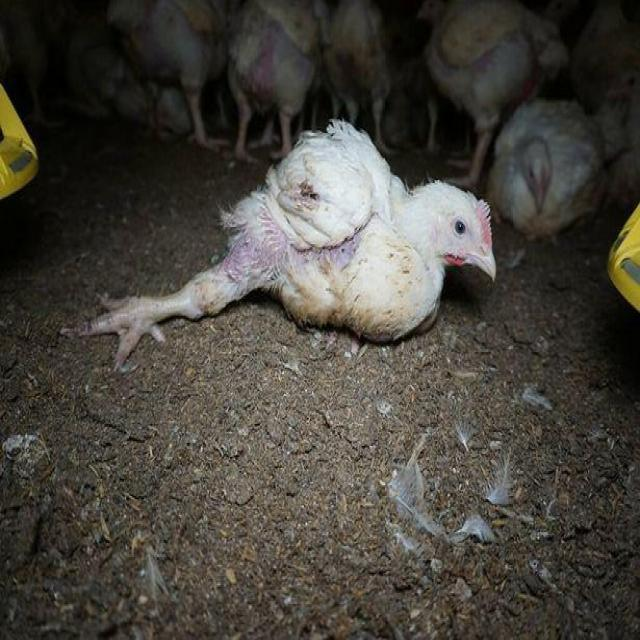Unhealthy: (86, 123, 504, 393)
